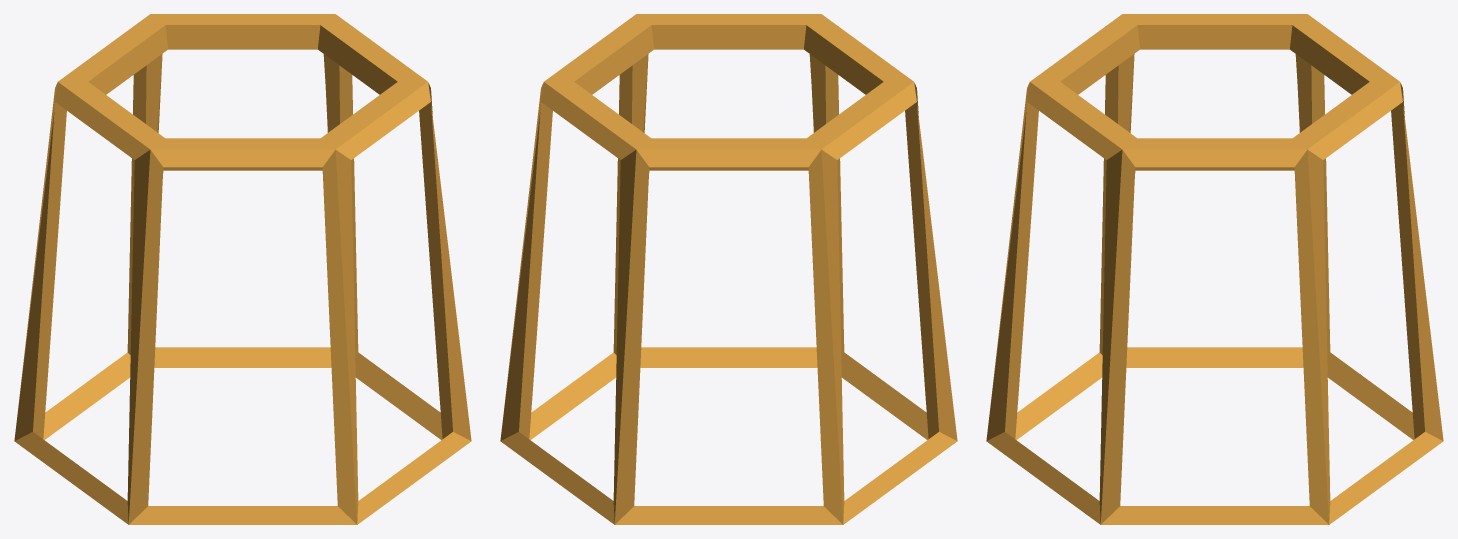
The model's file is SM_Bottle_Alchemy_Stand_A.fbx.
The picture shows the model from 3 angles, left to right: view 1: azimuth 30°, elevation 25°; view 2: azimuth 150°, elevation 25°; view 3: azimuth 270°, elevation 25°; orthographic projection.
Parts seen in each view (by area): view 1: bottle-alchemy-stand-a; view 2: bottle-alchemy-stand-a; view 3: bottle-alchemy-stand-a.
Boxes of the visible parts, <box> form: bottle-alchemy-stand-a: <box>14,14,471,524</box>; bottle-alchemy-stand-a: <box>500,14,957,524</box>; bottle-alchemy-stand-a: <box>986,14,1443,524</box>.
Size of the model in its own units: 0.2327 by 0.2331 by 0.2687.
